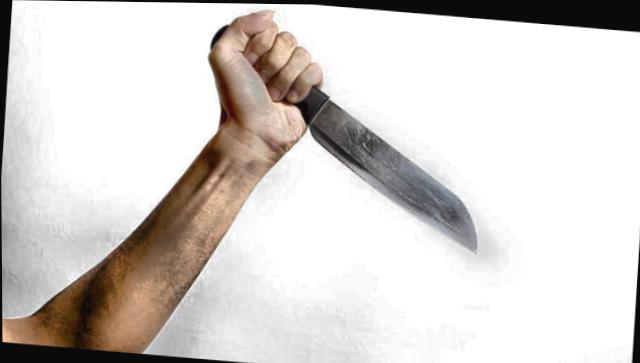knife: (238, 23, 496, 257)
